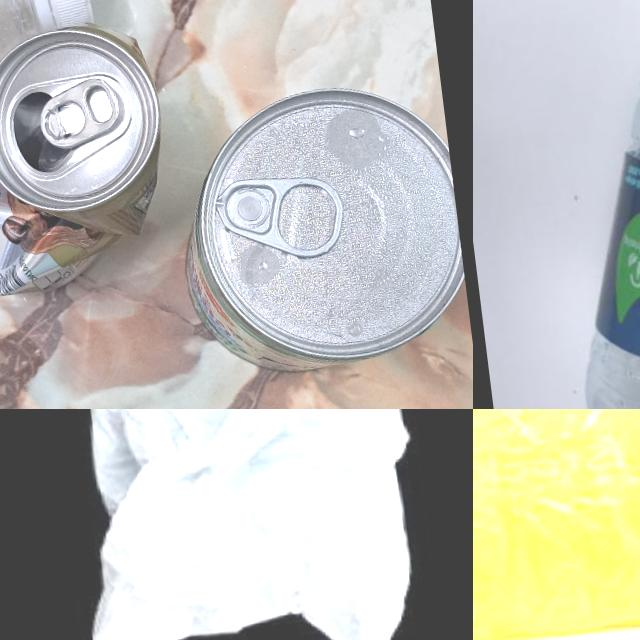aba de lata: (212, 168, 345, 266), (35, 74, 124, 153)
garrafa plástica: (531, 0, 640, 409), (0, 0, 46, 100)
lata: (167, 73, 473, 389), (0, 20, 179, 298)
sacola plástica: (14, 409, 443, 640), (473, 409, 640, 640)
tampa plástica: (31, 0, 93, 34)
